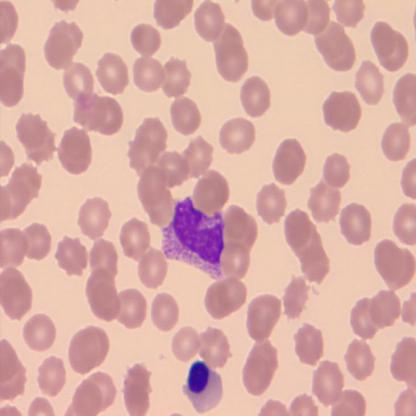Metamyelocyte: (158, 193, 228, 282)
